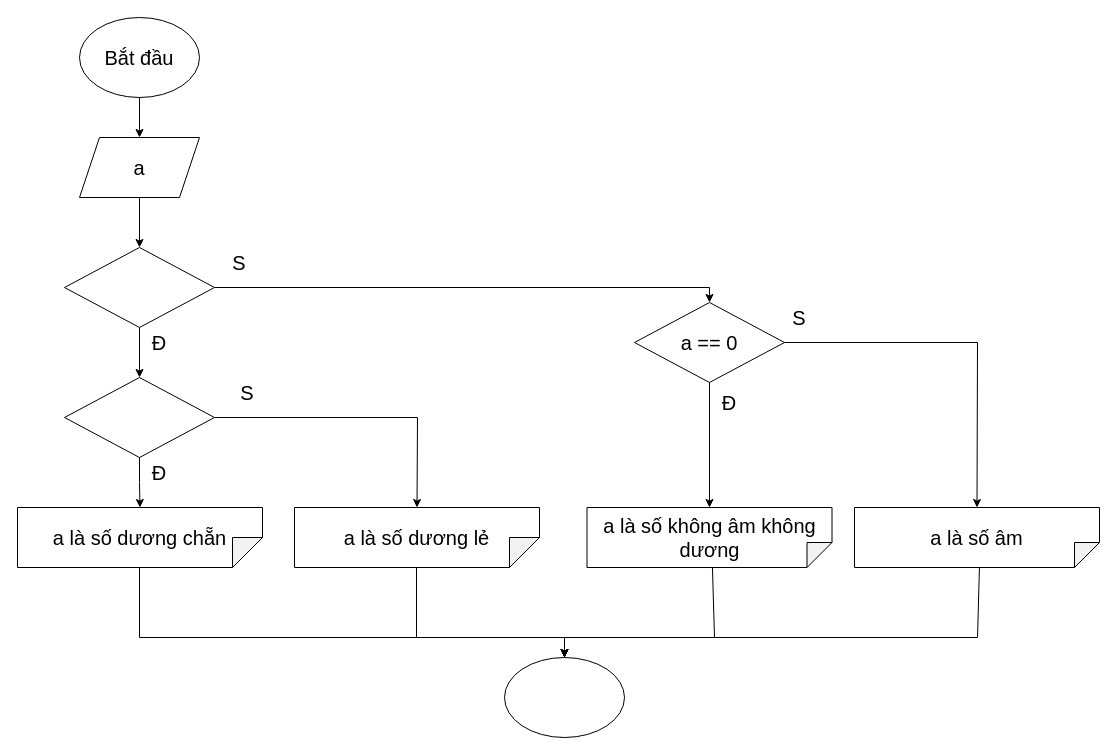
This 1117x755 diagram has some shape labels left out. The box of each missing label's shape, as (x1, y1, x2, y2) in pixels:
a % 2 == 0: (64, 376, 214, 458)
a > 0: (64, 246, 214, 328)
Kết thúc: (504, 656, 624, 738)
